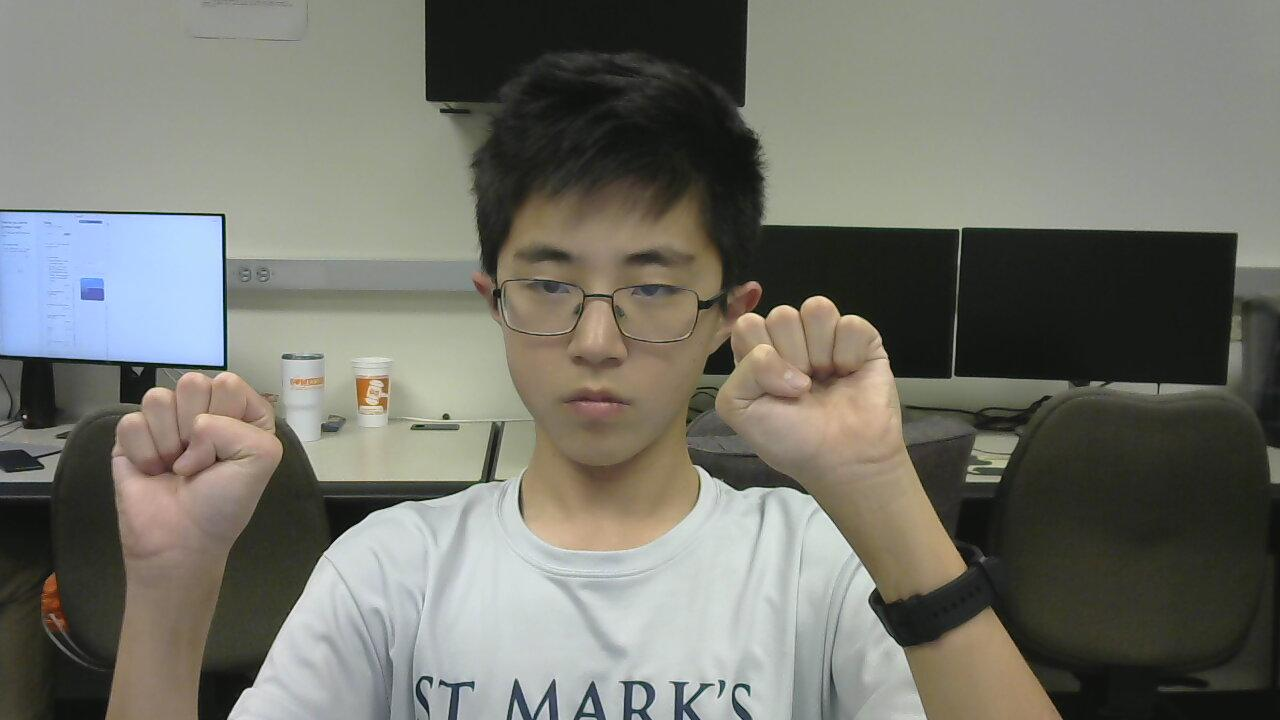fist: (728, 299, 935, 484), (101, 367, 291, 548)
